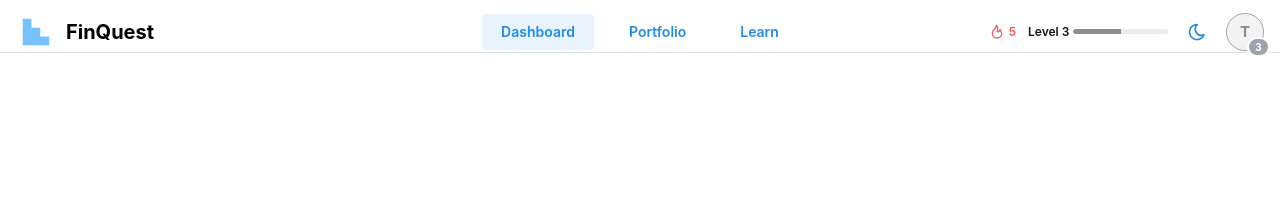
Scenario: AppNav › shows user email in menu
Click the text "T": [1245, 32] box [1227,14,1263,50]
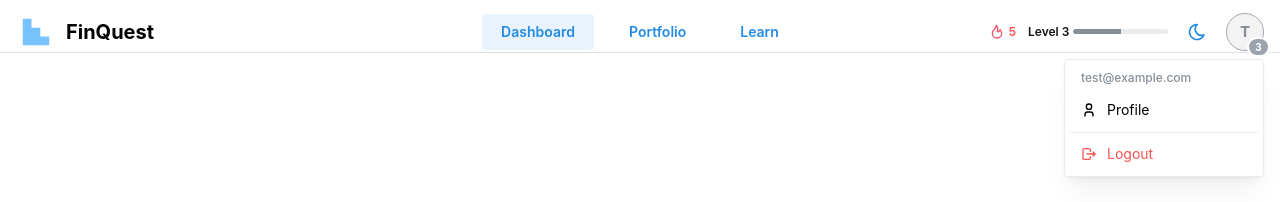
Now the text "test@example.com" is shown, box [1081,70,1191,85]
